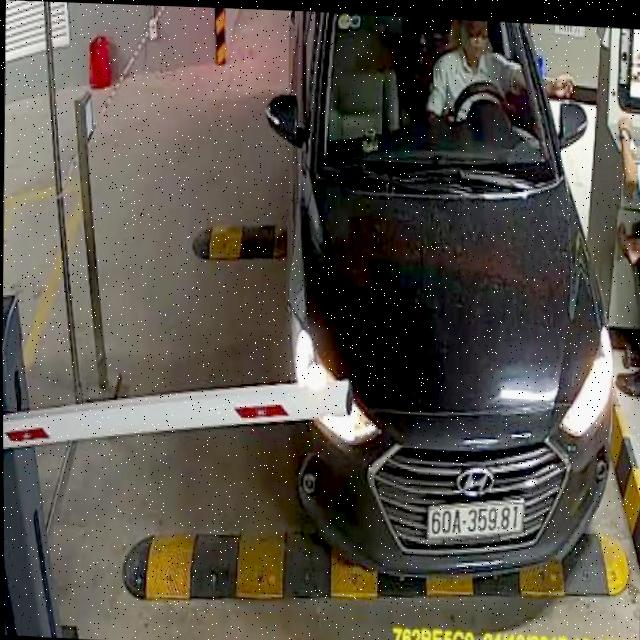car: (248, 9, 624, 591)
plate: (427, 501, 528, 541)
